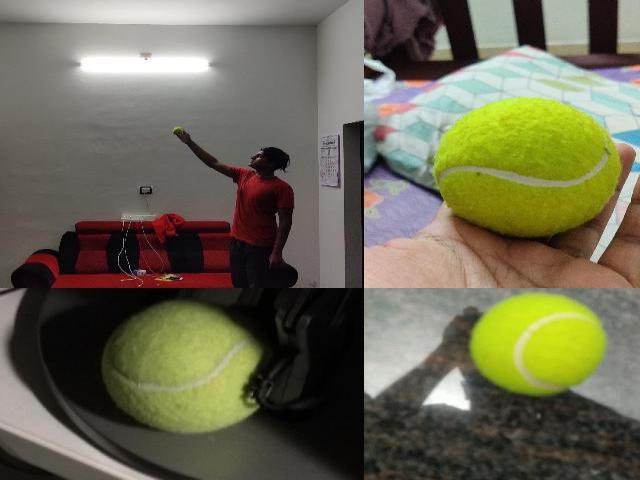tennis-ball: (431, 96, 623, 237), (99, 298, 263, 434), (468, 292, 606, 396), (173, 127, 183, 134)
